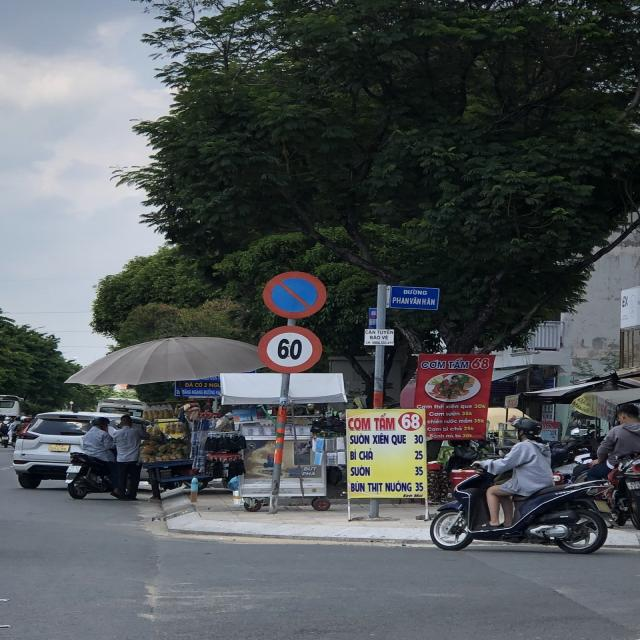Bien bao cam do xe: (259, 264, 330, 320)
Bien bao toc do toi da cho phep: (257, 324, 332, 377)
